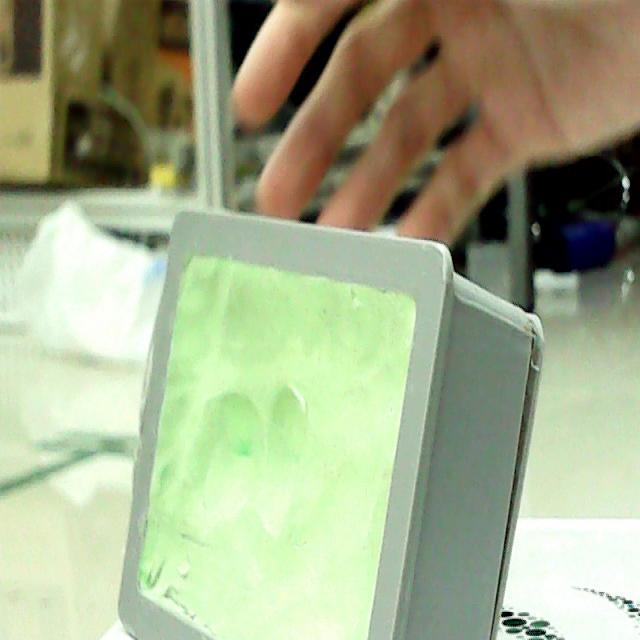block: (122, 201, 545, 640)
